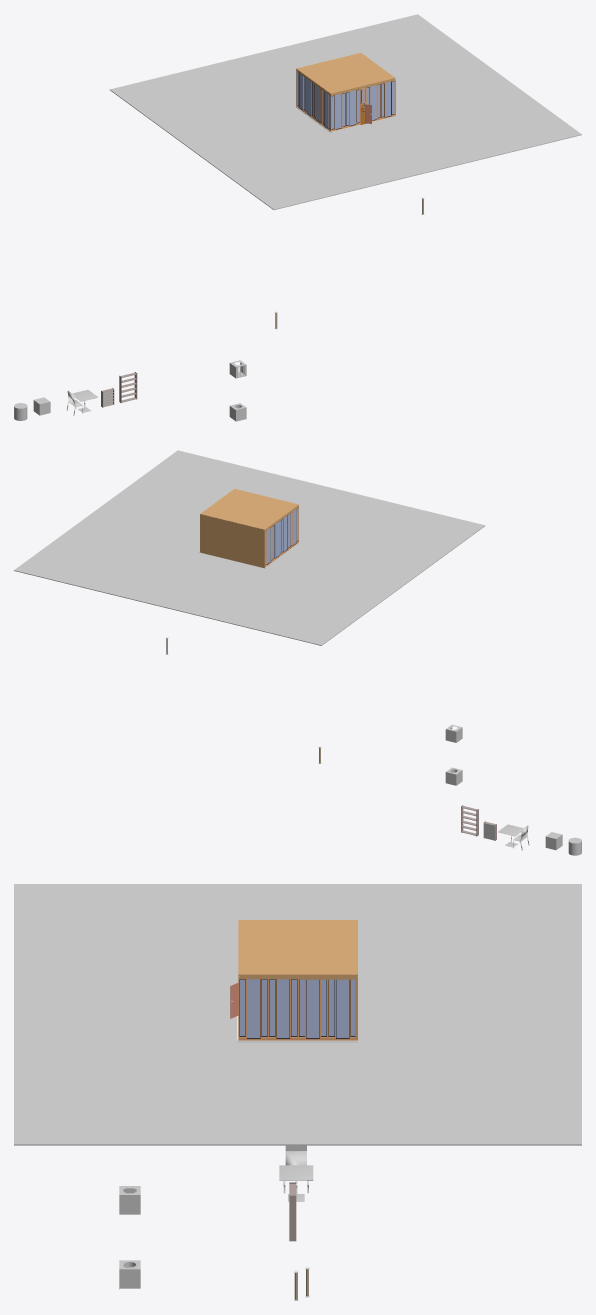
File: cafe.glb
3 views of the same model, one above another, from view 1: azimuth 30°, elevation 25°; view 2: azimuth 150°, elevation 25°; view 3: azimuth 270°, elevation 25° (orthographic). The views are drawn at different scales.
Visible parts, largest first — view 1: Roof, Roof.002, Window, Window.001, Window.003; view 2: Roof, Cube.065, Roof.002; view 3: Roof, Roof.002, Window.011, Window.010, Window.008, Window.009, Cube.019, Cube.005, Cube.018, Cube.016.
Boxes of the visible parts, x1,y1,x2,y2 form: Roof: (109,14,581,209); Roof.002: (296,53,394,93); Window: (345,89,360,128); Window.001: (381,79,395,120); Window.003: (331,93,345,132); Roof: (14,450,485,645); Cube.065: (200,514,265,568); Roof.002: (200,489,298,529); Roof: (14,884,581,1145); Roof.002: (238,920,357,974); Window.011: (238,976,268,1042); Window.010: (268,979,298,1042); Window.008: (327,976,357,1042); Window.009: (298,979,327,1042); Cube.019: (239,974,356,979); Cube.005: (279,1165,313,1201); Cube.018: (119,1186,140,1214); Cube.016: (120,1260,140,1288).
Size of the model in its own units: 38.63 by 20.75 by 22.62.
